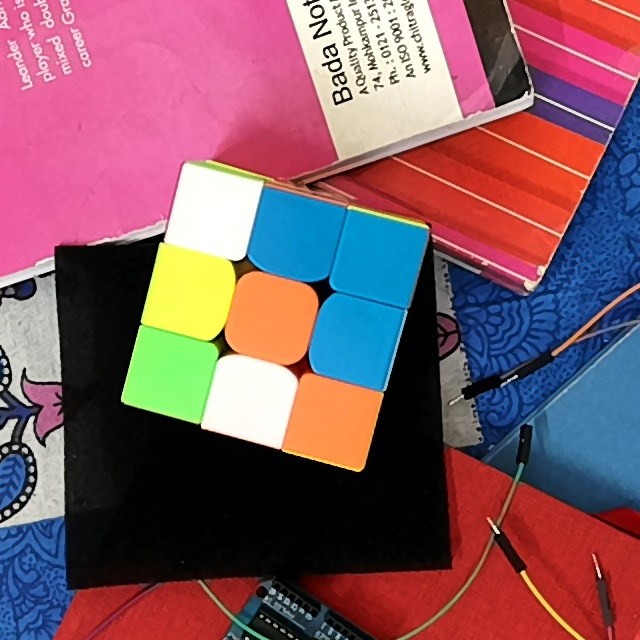tile: (348, 226, 410, 291), (157, 262, 219, 325), (239, 289, 303, 350), (300, 393, 366, 451), (325, 309, 386, 371), (264, 208, 326, 268), (138, 346, 200, 405), (181, 185, 243, 243), (222, 371, 282, 426)
